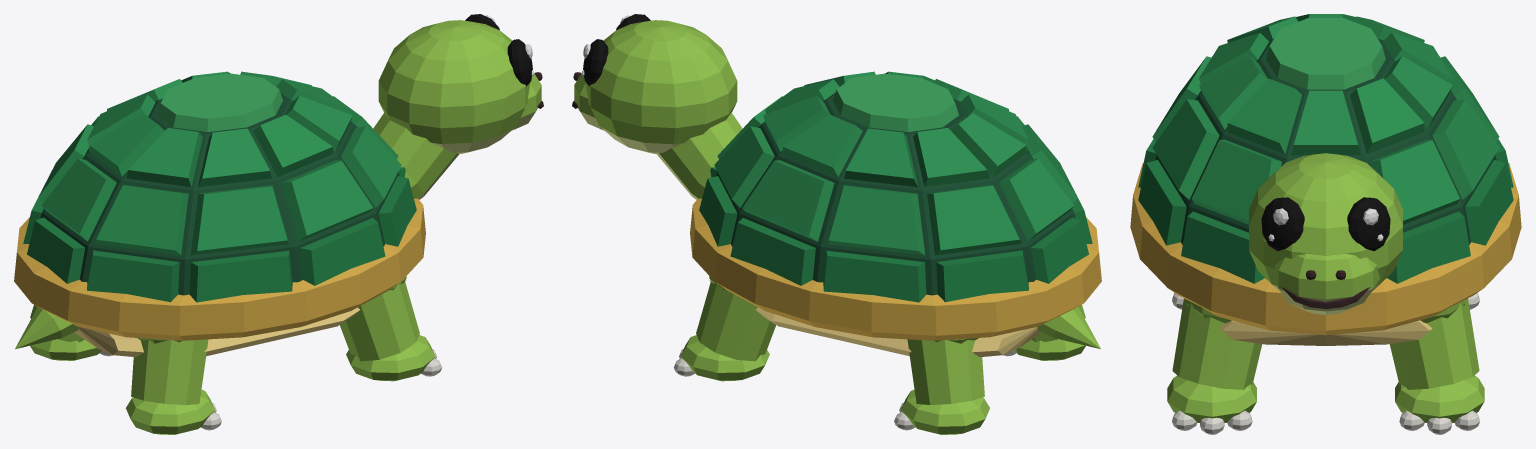
Rendered from turtle.glb.
The picture shows the model from 3 angles, left to right: view 1: azimuth 30°, elevation 25°; view 2: azimuth 150°, elevation 25°; view 3: azimuth 270°, elevation 25°; orthographic projection. The views are drawn at different scales.
Parts seen in each view (by area): view 1: shell, head, leg_br, leg_fr, body, leg_bl, tail; view 2: shell, head, leg_bl, leg_fl, body, leg_br, tail; view 3: shell, head, leg_fl, leg_fr, body.
Part boxes in pixels (box(x1,y1,x2,y2)): shell: box(14, 71, 425, 340); head: box(373, 14, 543, 199); leg_br: box(126, 338, 221, 434); leg_fr: box(340, 276, 442, 381); body: box(74, 280, 406, 357); leg_bl: box(30, 305, 112, 360); tail: box(15, 307, 78, 349); shell: box(690, 71, 1101, 340); head: box(572, 14, 742, 199); leg_bl: box(894, 338, 989, 434); leg_fl: box(673, 276, 775, 381); body: box(709, 280, 1041, 357); leg_br: box(1003, 305, 1085, 360); tail: box(1037, 307, 1100, 349); shell: box(1130, 14, 1521, 335); head: box(1249, 153, 1402, 314); leg_fl: box(1389, 298, 1484, 434); leg_fr: box(1167, 298, 1262, 434); body: box(1219, 320, 1432, 345).
Bounding box in the file's own units: 2.08 × 1.08 × 1.2.
